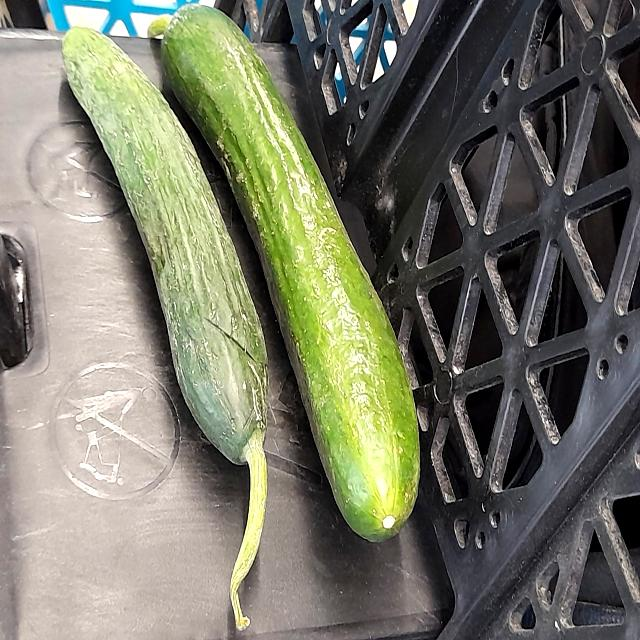cucumber: (157, 0, 425, 544), (59, 24, 284, 568)
